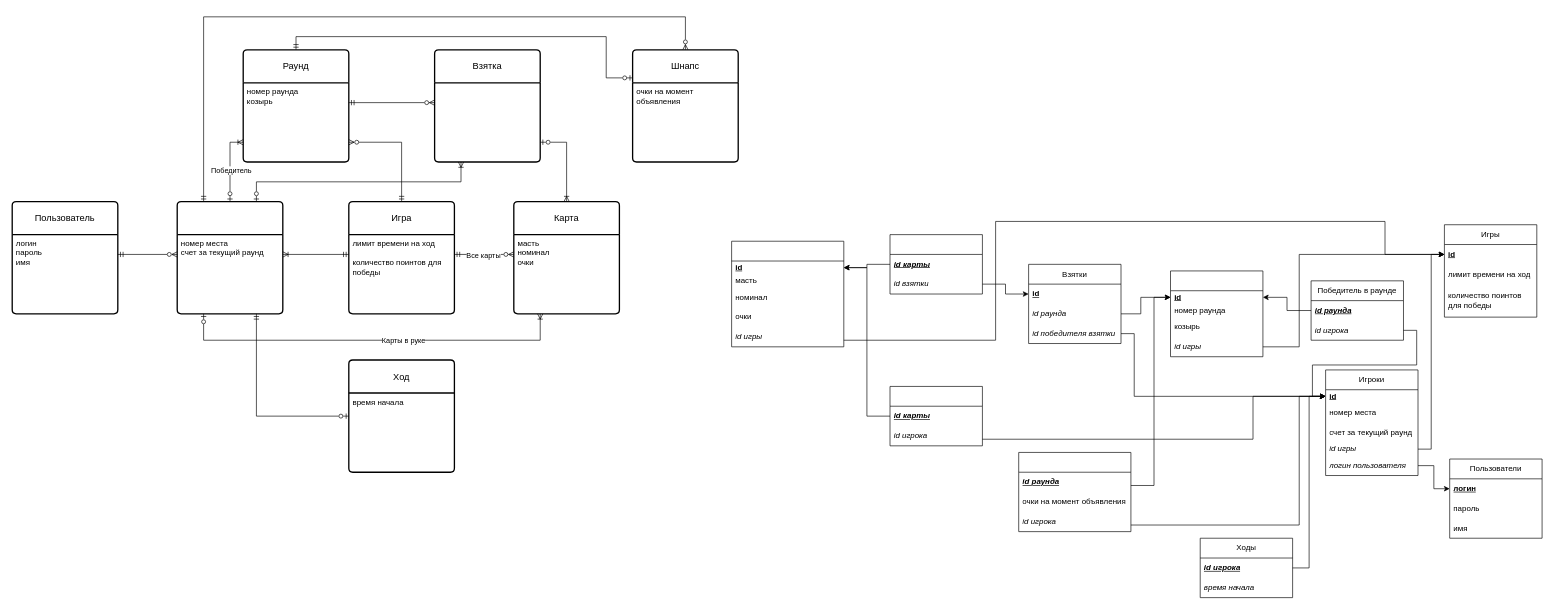
This 1554x609 diagram has some shape labels left out. Each missing label, with the box of its shape:
Игрок: (176, 201, 283, 314)
Карты: (731, 241, 844, 347)
Карты в руках: (889, 386, 982, 446)
Карты во взятке: (889, 234, 982, 294)
Раунды: (1170, 270, 1263, 357)
Шнапсы: (1018, 452, 1131, 532)
